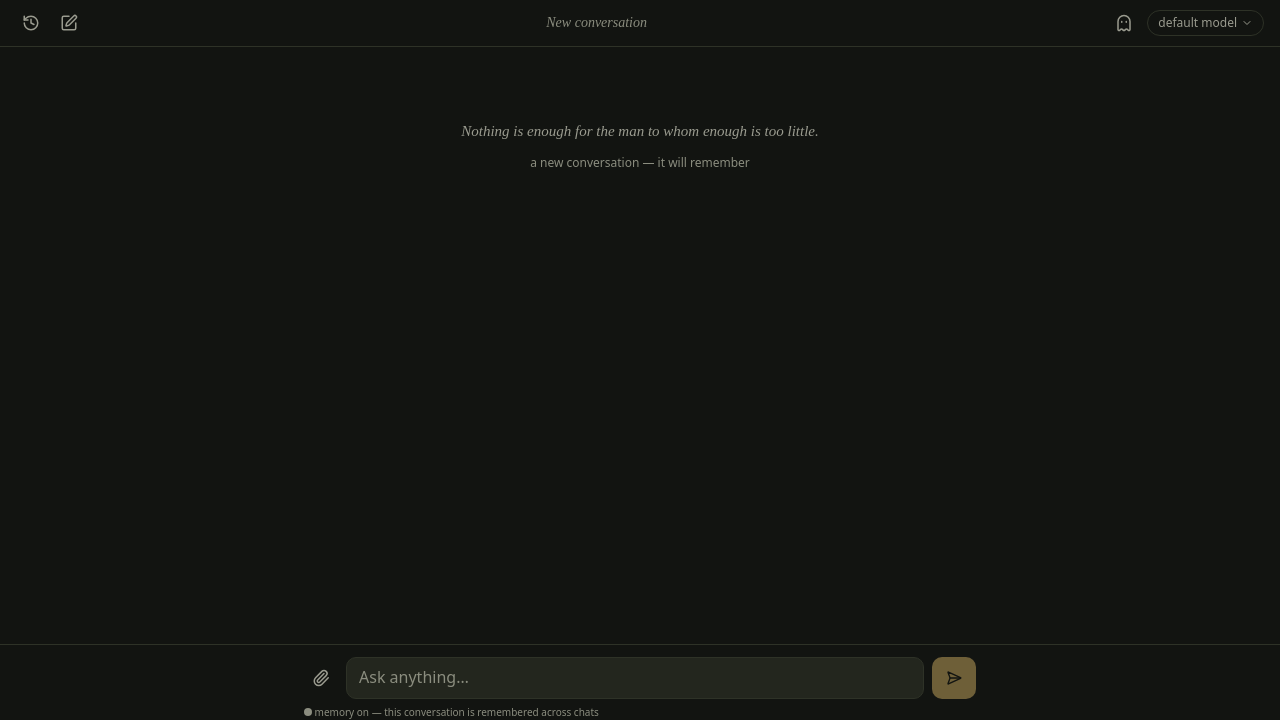
Scenario: Conversations sheet (#480) › groups sessions under recency headers
Click the button named "Conversations".
click(31, 23)  # box [16, 8, 46, 38]
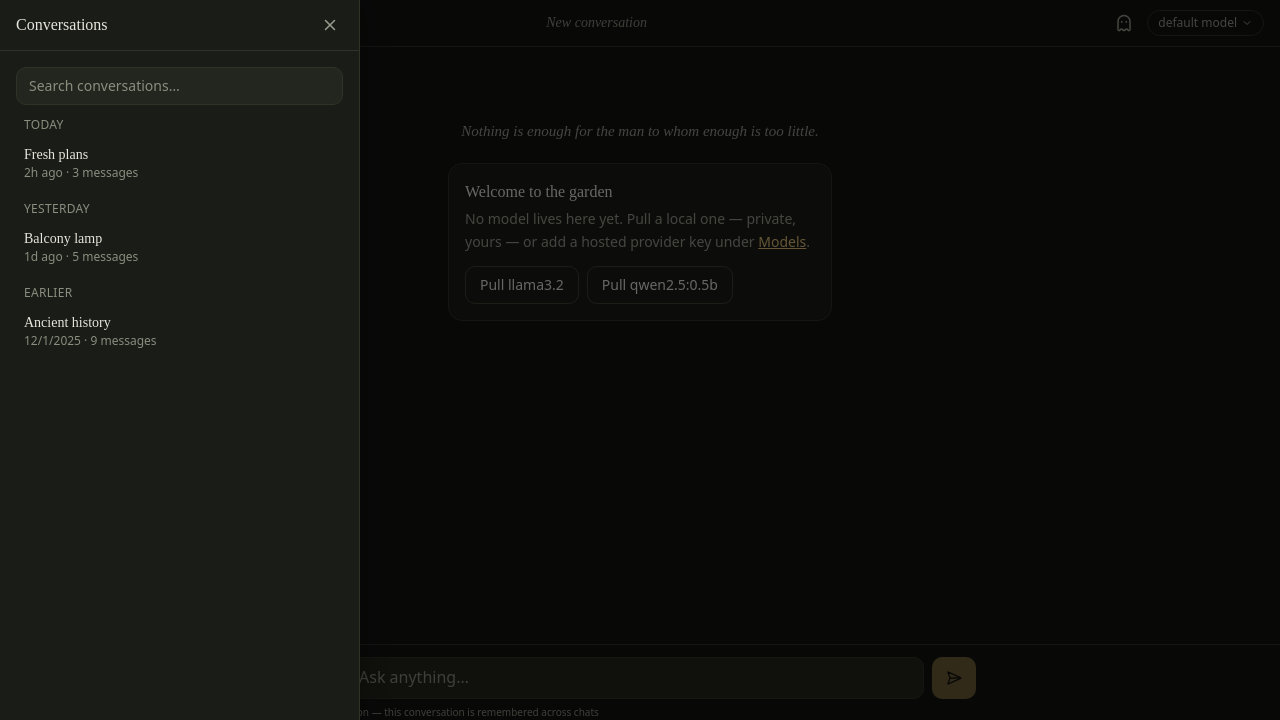
Expected: the text "Fresh plans" is shown, [24, 145, 88, 165]
Expected: the text "Today" is shown, [24, 116, 64, 133]
Expected: the text "Yesterday" is shown, [24, 200, 90, 217]
